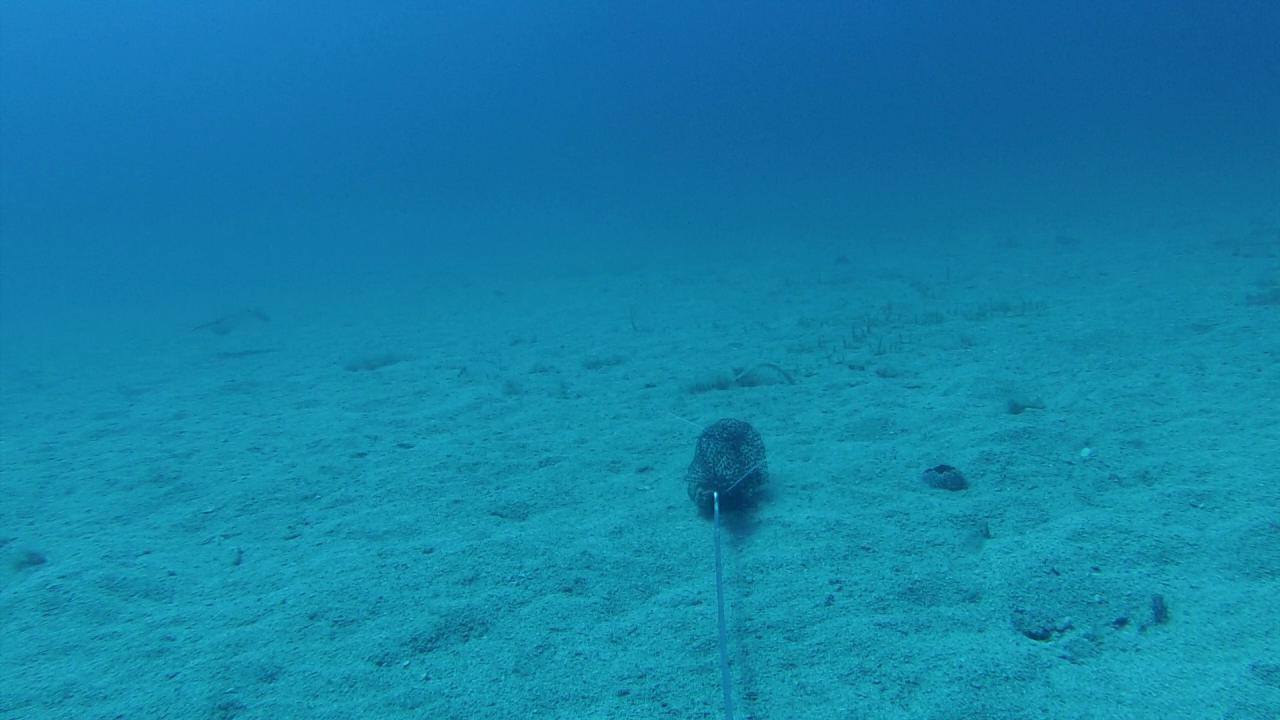bothus: (1009, 560, 1167, 669)
dasyatis: (187, 304, 270, 340)
